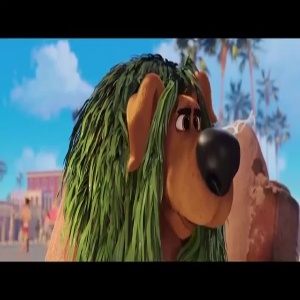Scooby: (127, 69, 242, 243)
